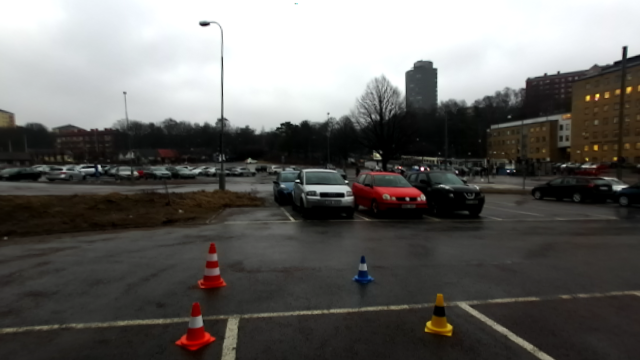blue: (352, 253, 374, 284)
orange: (175, 301, 217, 351)
orange2: (197, 243, 226, 290)
yellow: (421, 290, 454, 335)
